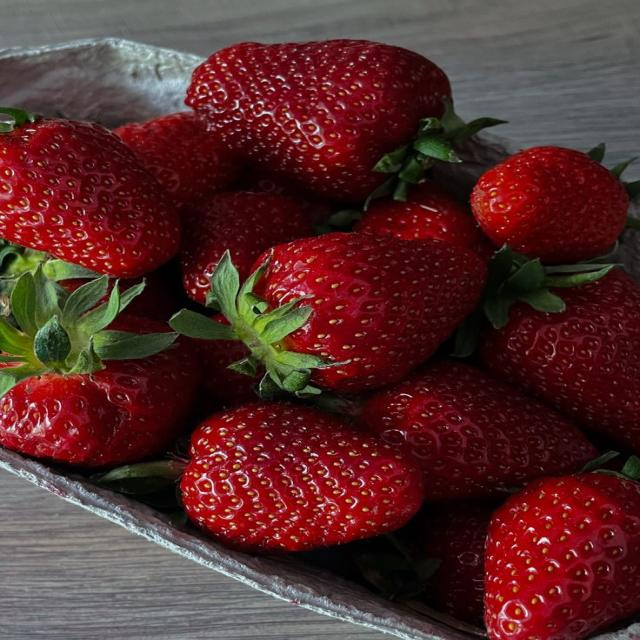strawberry: (171, 233, 486, 391), (187, 40, 450, 201), (0, 269, 199, 467), (181, 403, 421, 552), (358, 361, 598, 501), (0, 109, 179, 277), (480, 269, 639, 452), (486, 473, 639, 639), (471, 147, 628, 263), (180, 192, 313, 303), (114, 111, 239, 205), (409, 502, 498, 625), (354, 181, 494, 259), (239, 166, 332, 225), (0, 241, 99, 295), (197, 340, 259, 413), (120, 269, 186, 321)
